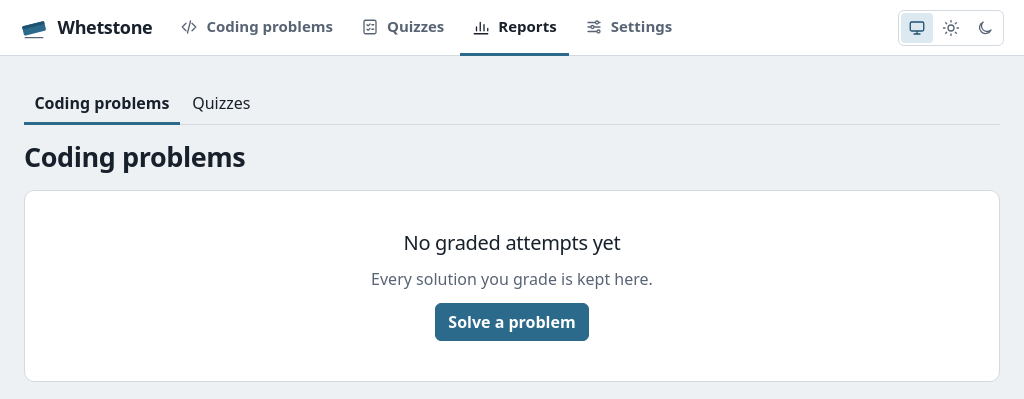
Test: Layout › shows Reports with a menu of its reports
Step 1. Click the 2nd link "Quizzes" → (221, 103), box [192, 92, 250, 114]
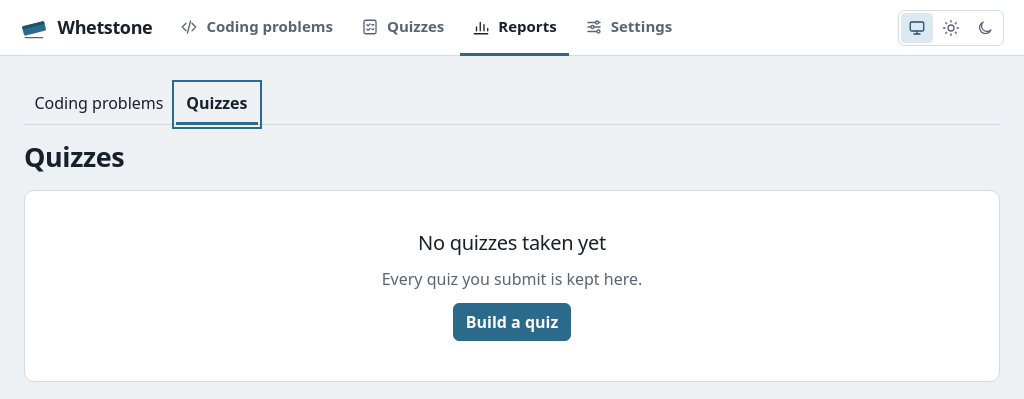
Expected: the 2nd link "Quizzes" is shown, [176, 84, 258, 125]
Result: the link "Build a quiz" is shown at [453, 303, 571, 341]
